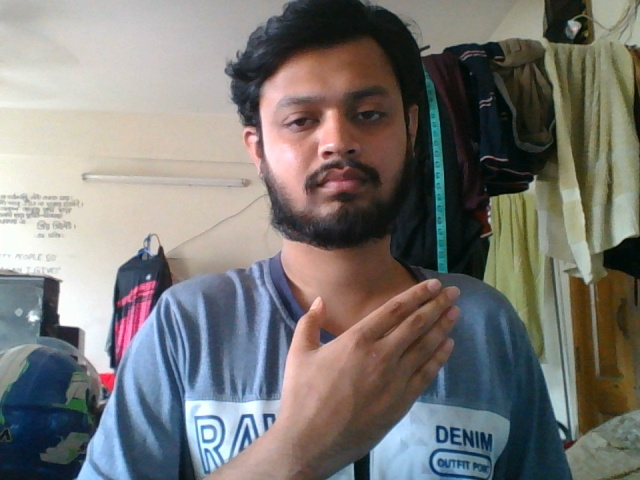ami: (249, 277, 466, 468)
